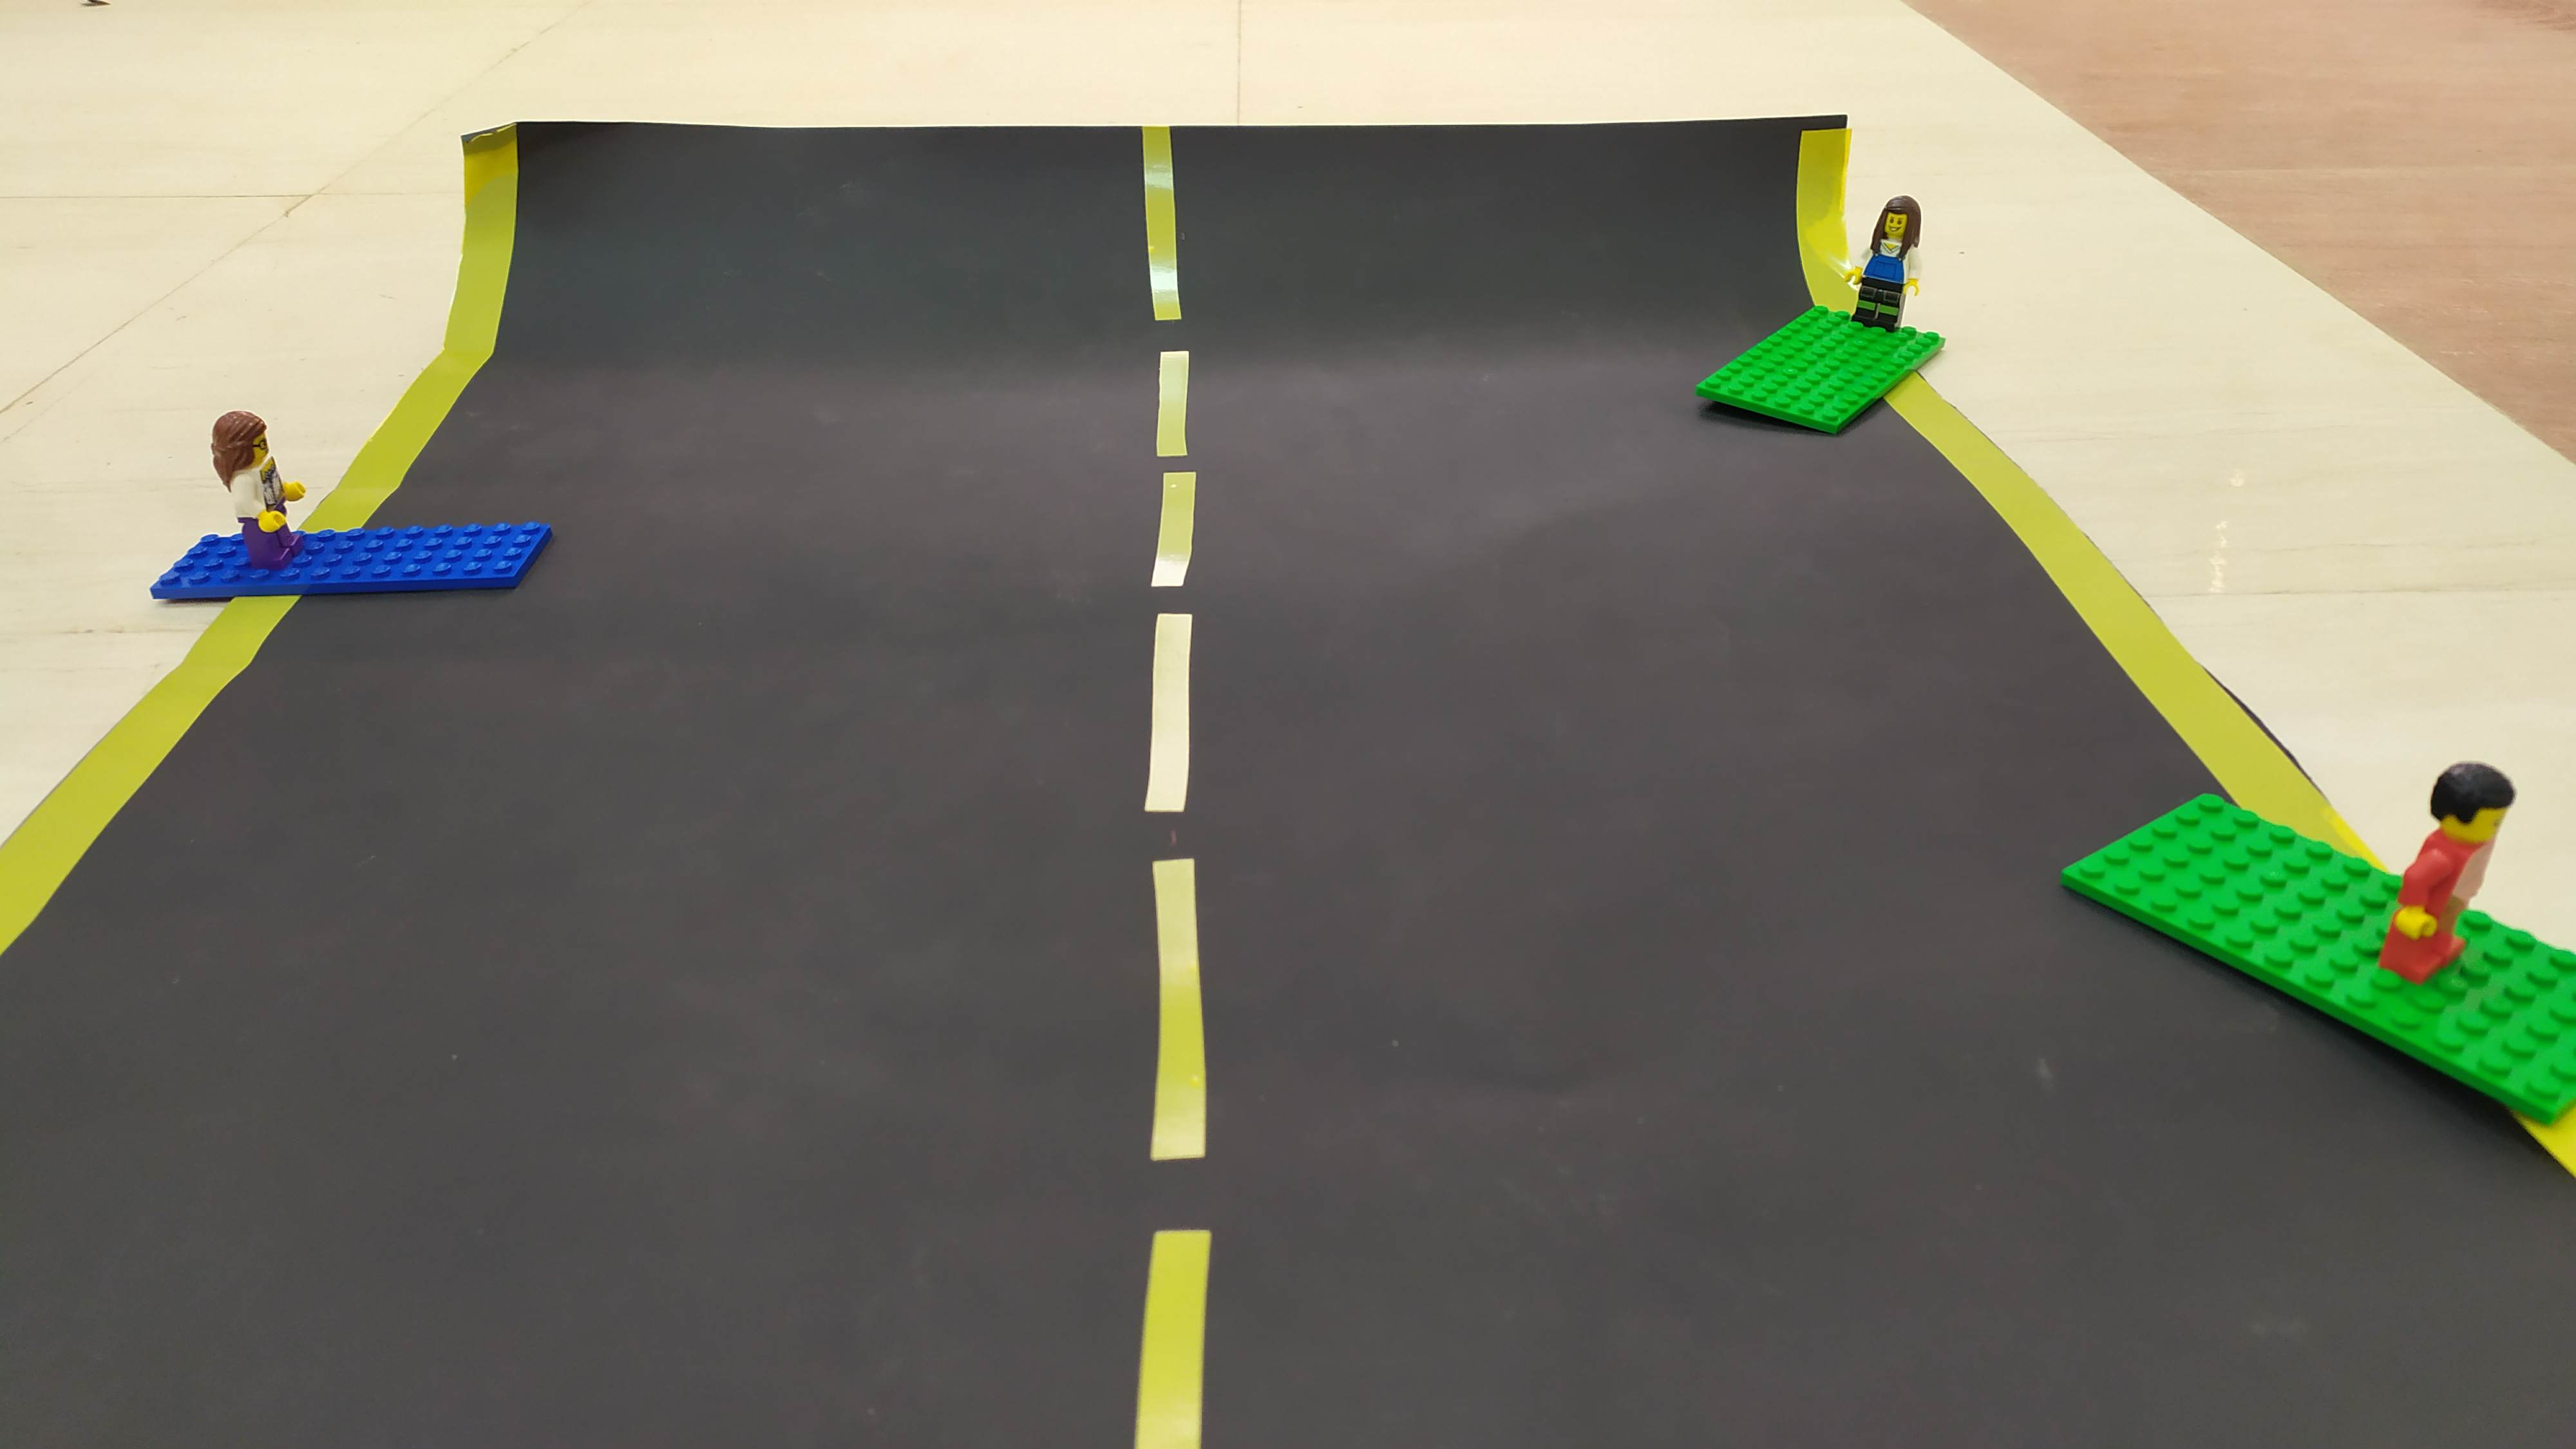Person: (2399, 757, 2521, 995), (1851, 171, 1948, 377), (203, 396, 312, 557)
